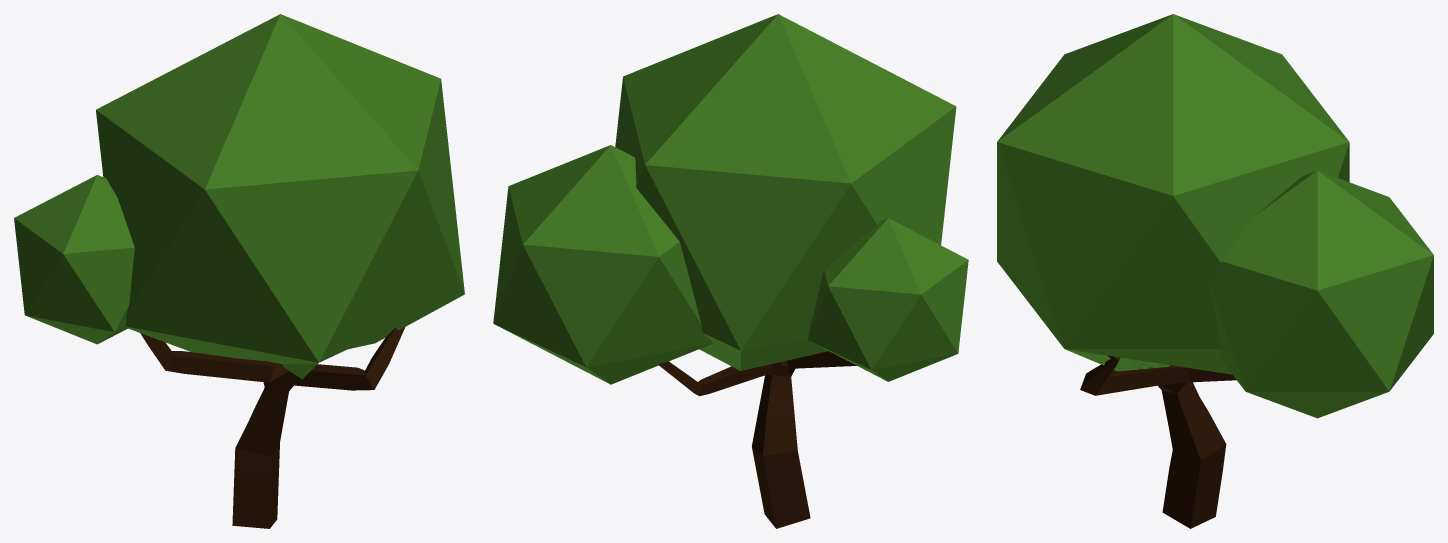
The model's file is tree.fbx.
3 views of the same model, side by side, from view 1: azimuth 30°, elevation 25°; view 2: azimuth 150°, elevation 25°; view 3: azimuth 270°, elevation 25° (orthographic). The views are drawn at different scales.
Visible parts, largest first — view 1: Icosphere.002, Icosphere, Cube; view 2: Icosphere.002, Icosphere.001, Icosphere, Cube; view 3: Icosphere.002, Icosphere.001, Cube.
Boxes of the visible parts, box(x1,y1,x2,y2) form: Icosphere.002: box(96, 14, 464, 379); Icosphere: box(14, 175, 134, 344); Cube: box(140, 327, 405, 528); Icosphere.002: box(615, 14, 956, 370); Icosphere.001: box(493, 145, 713, 384); Icosphere: box(808, 218, 968, 381); Cube: box(658, 351, 856, 528); Icosphere.002: box(997, 14, 1349, 374); Icosphere.001: box(1209, 170, 1433, 418); Cube: box(1080, 355, 1236, 528).
Size of the model in its own units: 781 by 894 by 691.
